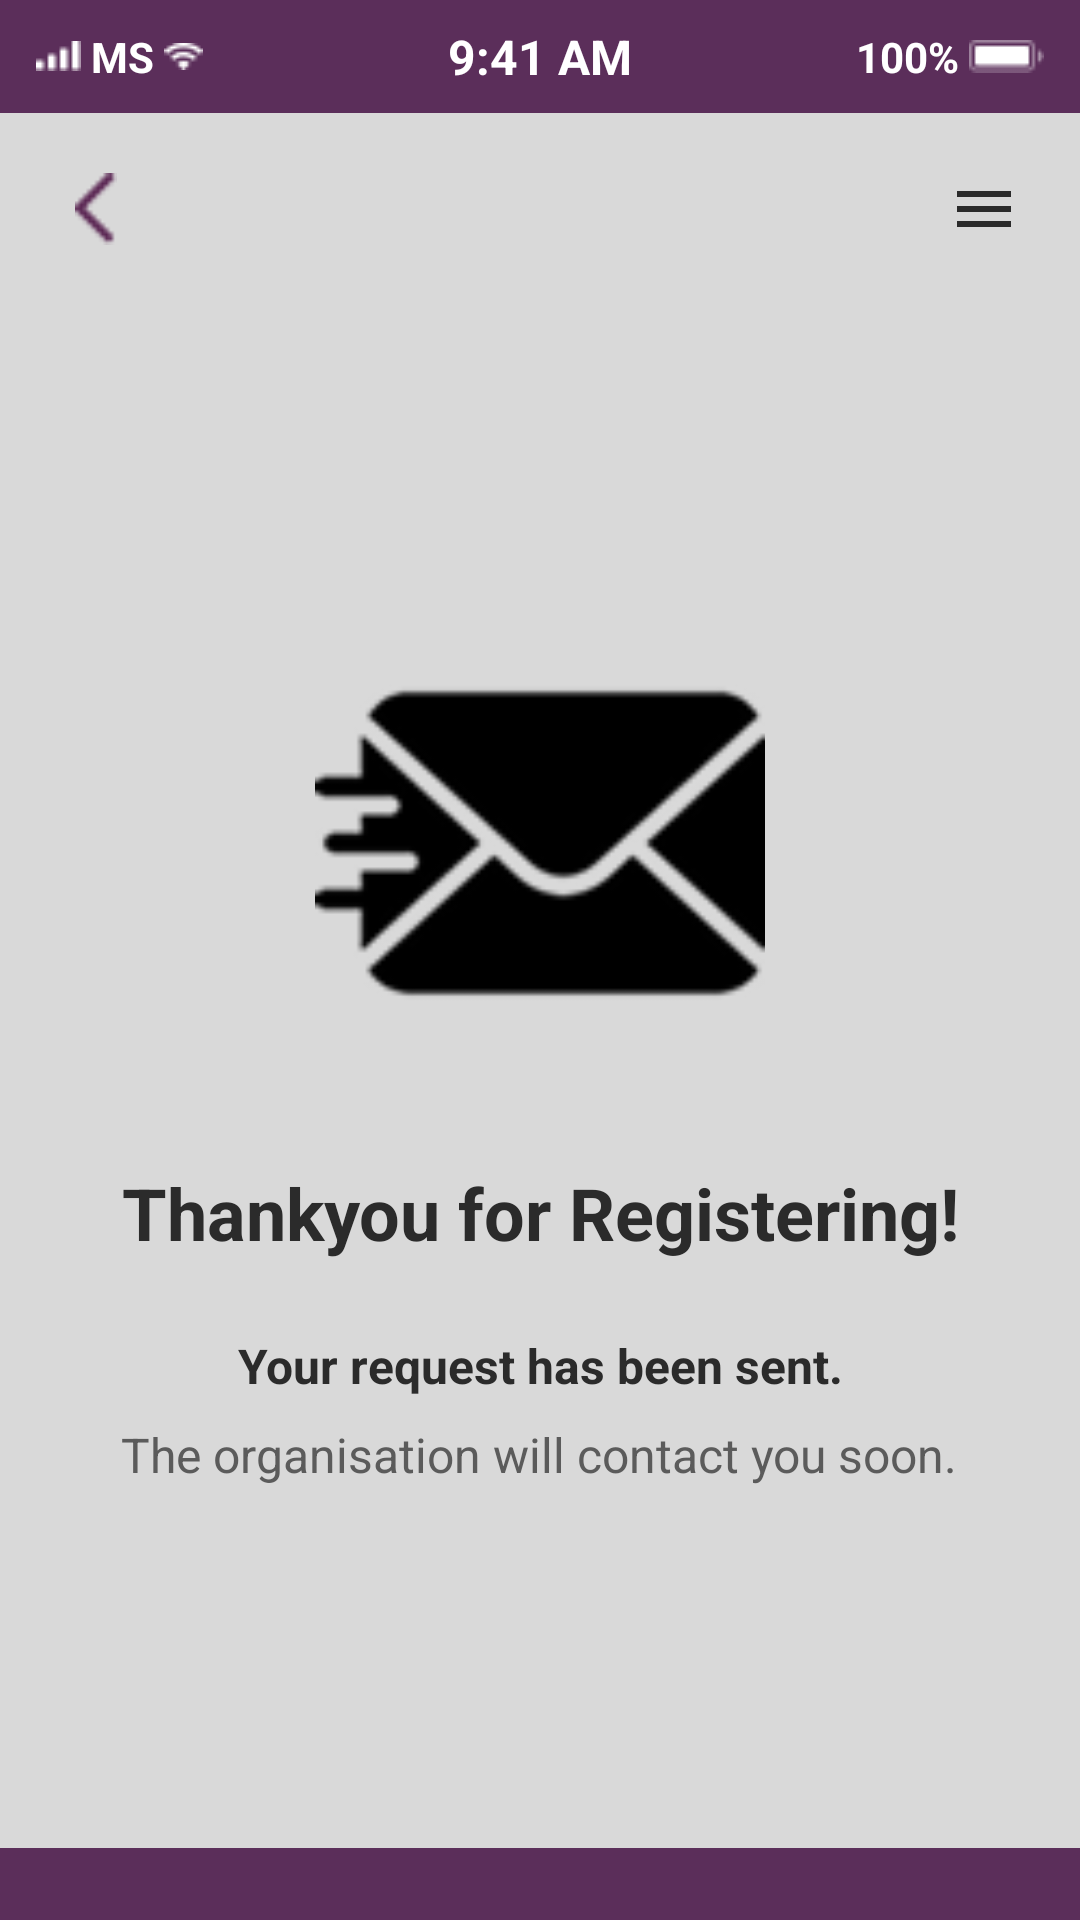

Where icons sit on this 1080×1920 app screen, as (x1, y1, x2, y2):
Back: (75, 173, 115, 243)
battery: (969, 40, 1044, 73)
Menu: (957, 191, 1011, 227)
mobilesignal: (36, 41, 81, 71)
wifi: (164, 43, 203, 70)
